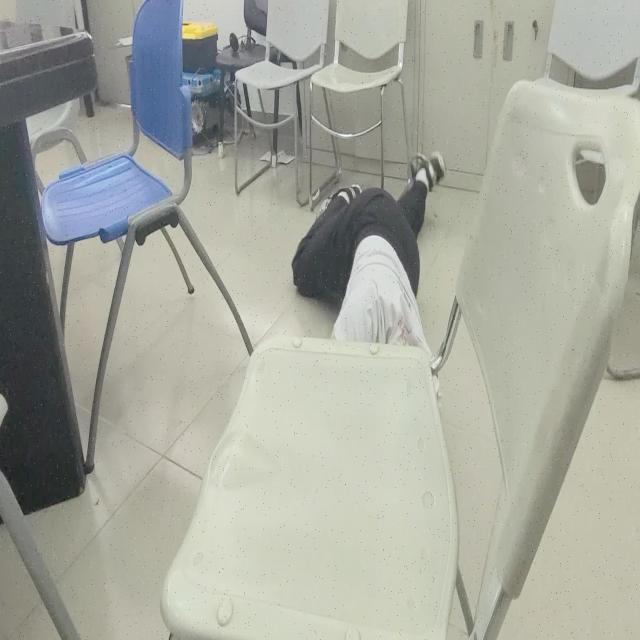fall: (290, 142, 446, 352)
